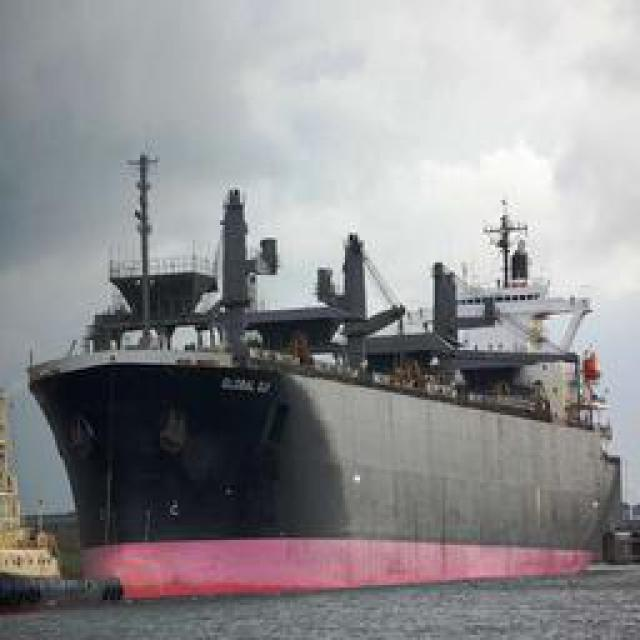Ship: (30, 187, 620, 600)
